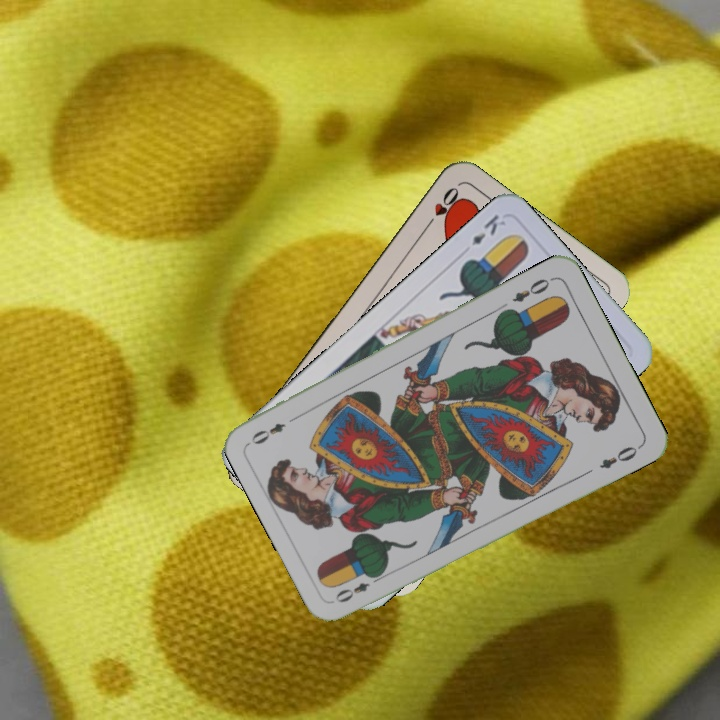EK: (467, 210, 509, 248)
EO: (331, 569, 385, 606), (508, 273, 556, 305)
HO: (420, 182, 462, 233)
